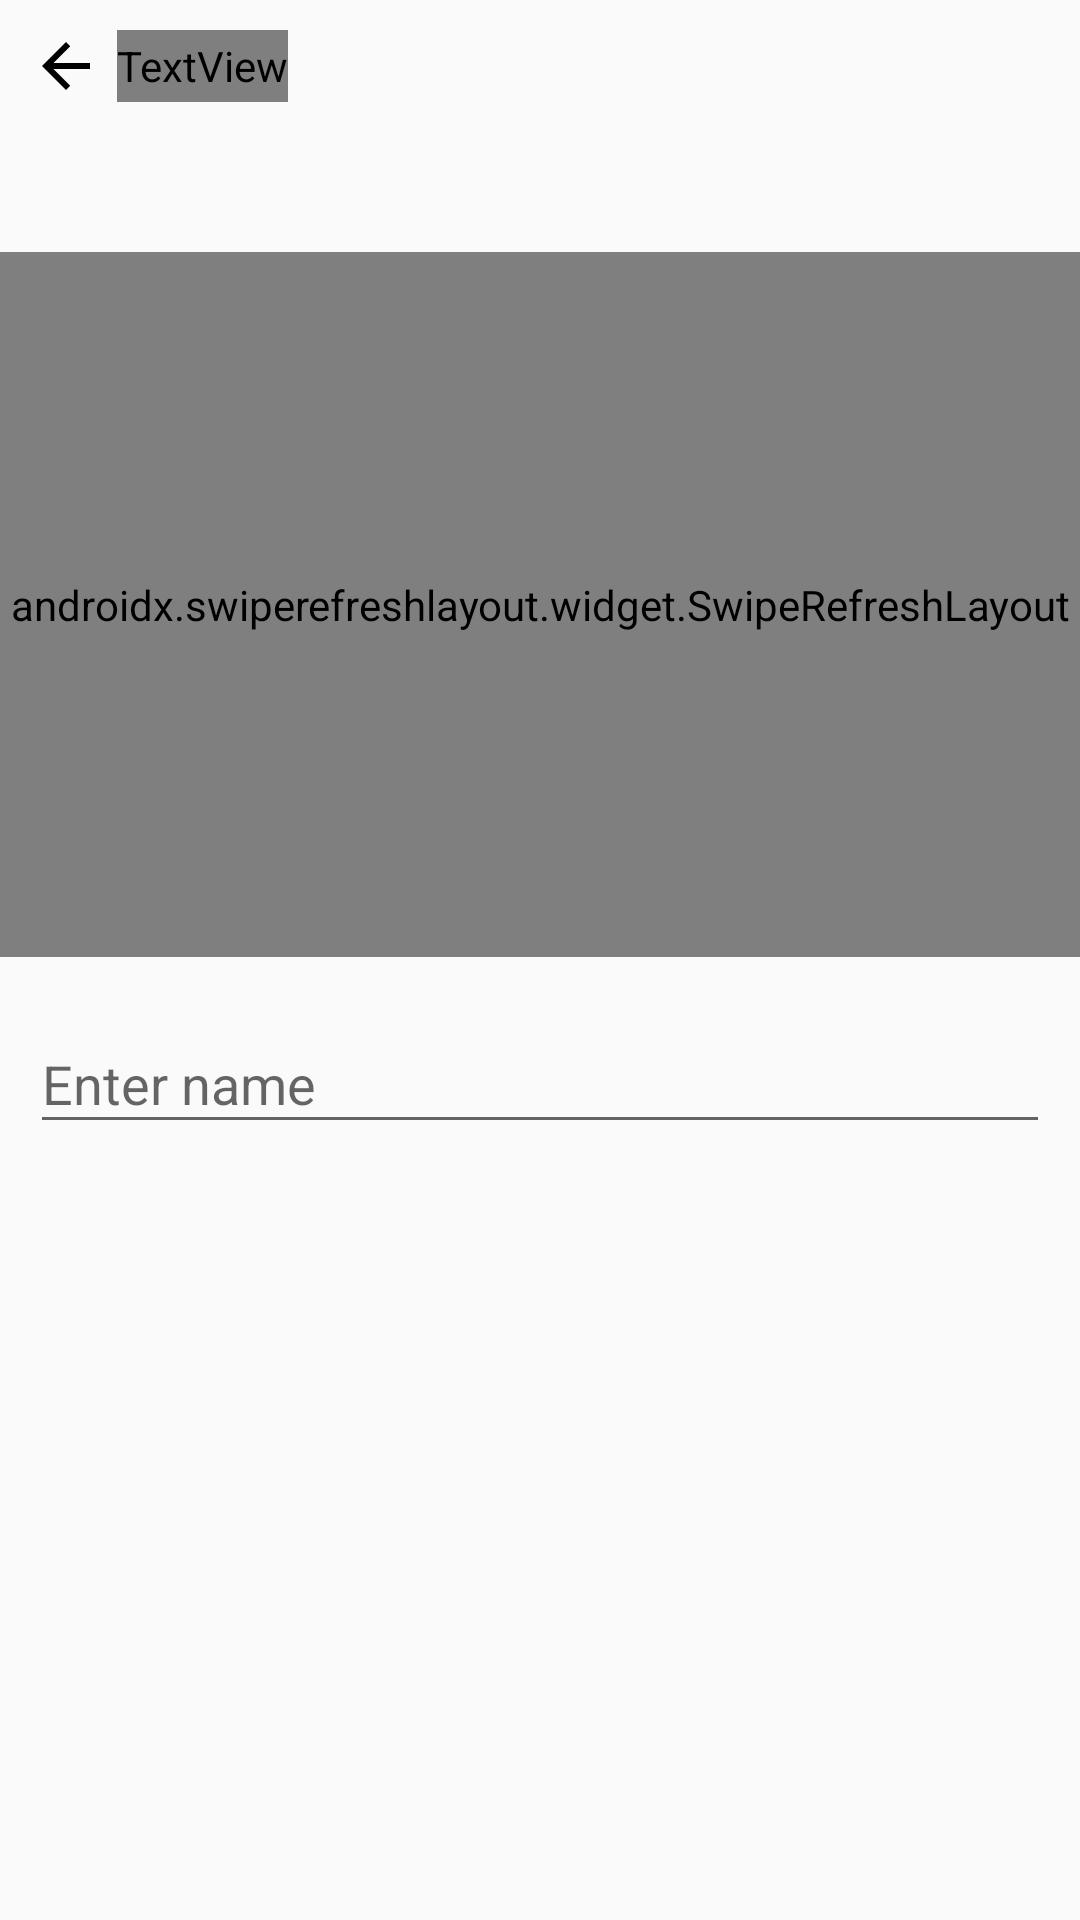

Screen size 1080×1920. Icon name, then its box in pixels as (x1, y1, x2, y2):
arrow back: (42, 42, 90, 90)
